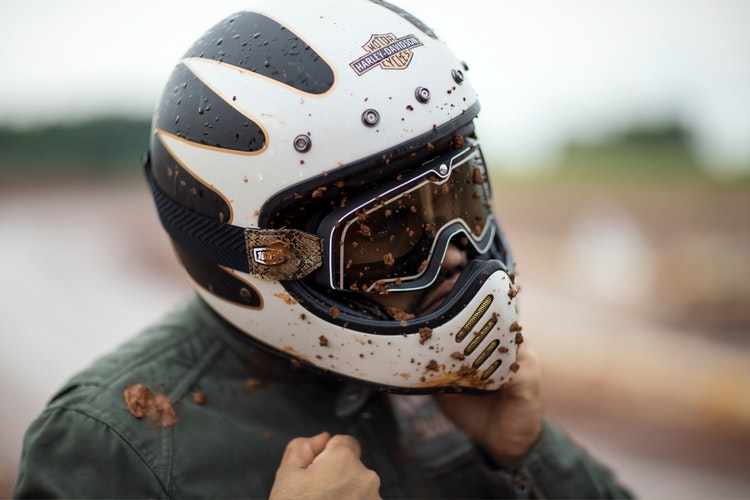helmet: (138, 7, 543, 404)
